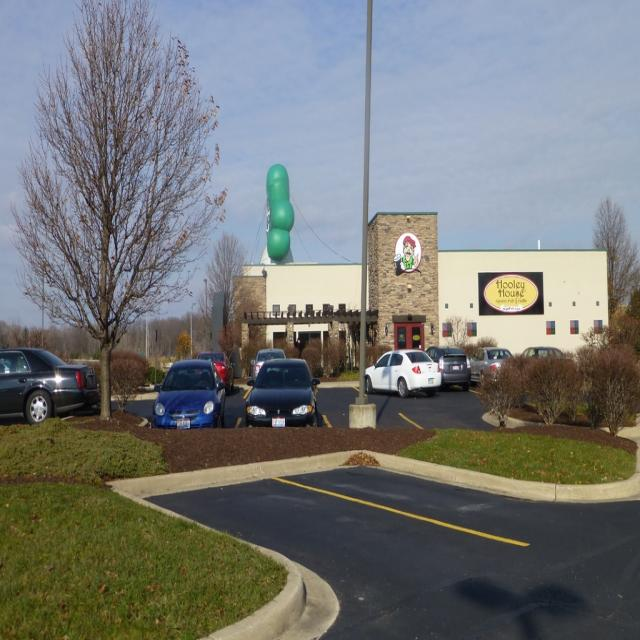car: (240, 352, 312, 425), (148, 361, 225, 427), (363, 345, 440, 398), (424, 342, 468, 388), (467, 345, 514, 386), (193, 345, 235, 390), (511, 341, 566, 361)
